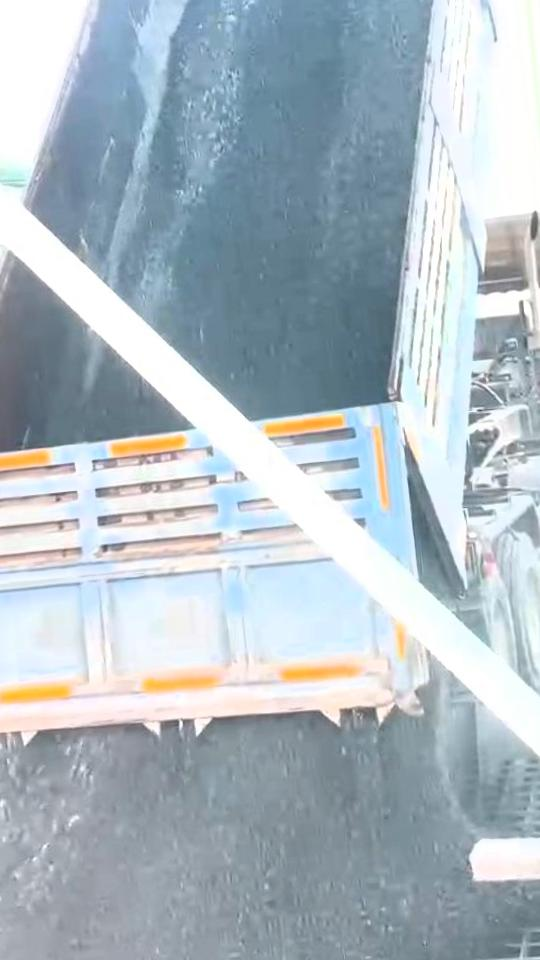gravel: (102, 0, 445, 418), (0, 715, 523, 960), (75, 341, 179, 438)
